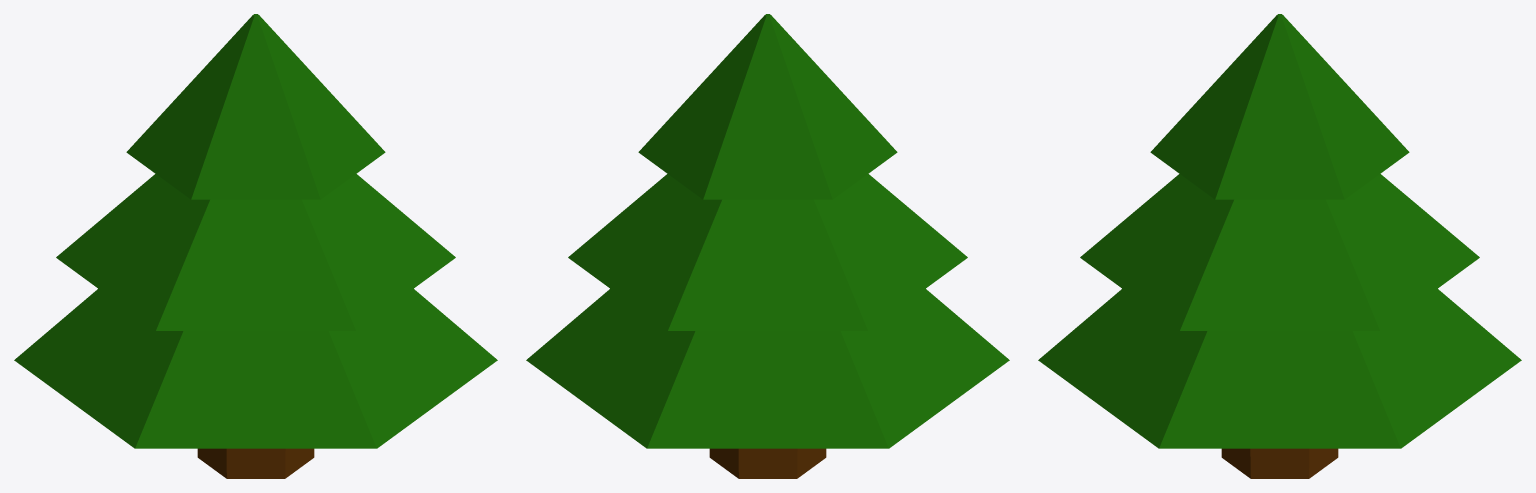
Rendered from Tree1.fbx.
3 views of the same model, side by side, from view 1: azimuth 30°, elevation 25°; view 2: azimuth 150°, elevation 25°; view 3: azimuth 270°, elevation 25° (orthographic).
Parts seen in each view (by area): view 1: Tree1; view 2: Tree1; view 3: Tree1.
Part boxes in pixels (box(x1,y1,x2,y2)): Tree1: box(14, 14, 497, 478); Tree1: box(526, 14, 1009, 478); Tree1: box(1038, 14, 1521, 478).
Size of the model in its own units: 519 by 605 by 600.
